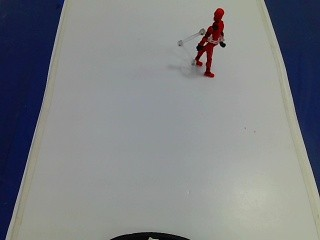pedestrian: (188, 3, 235, 89)
